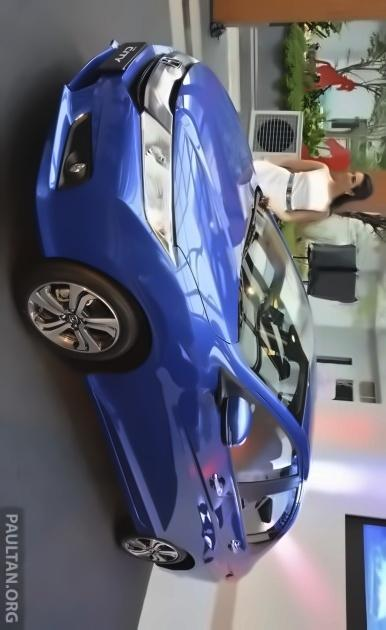Car hood: (171, 59, 257, 347)
Fender - -F-L-: (89, 234, 234, 391)
Fender - -R-L-: (137, 527, 246, 573)
Front bumper: (30, 31, 155, 280)
Headlight - -L-: (137, 105, 178, 260)
Passenger-s door - -F-L-: (105, 387, 314, 495)
Passenger-s door - -R-L-: (131, 495, 315, 559)
Rear bumper: (145, 552, 205, 589)
Rear light - -L-: (218, 560, 243, 590)
Side bumper - -L-: (81, 367, 154, 541)
Side mirror - -L-: (217, 385, 256, 449)
